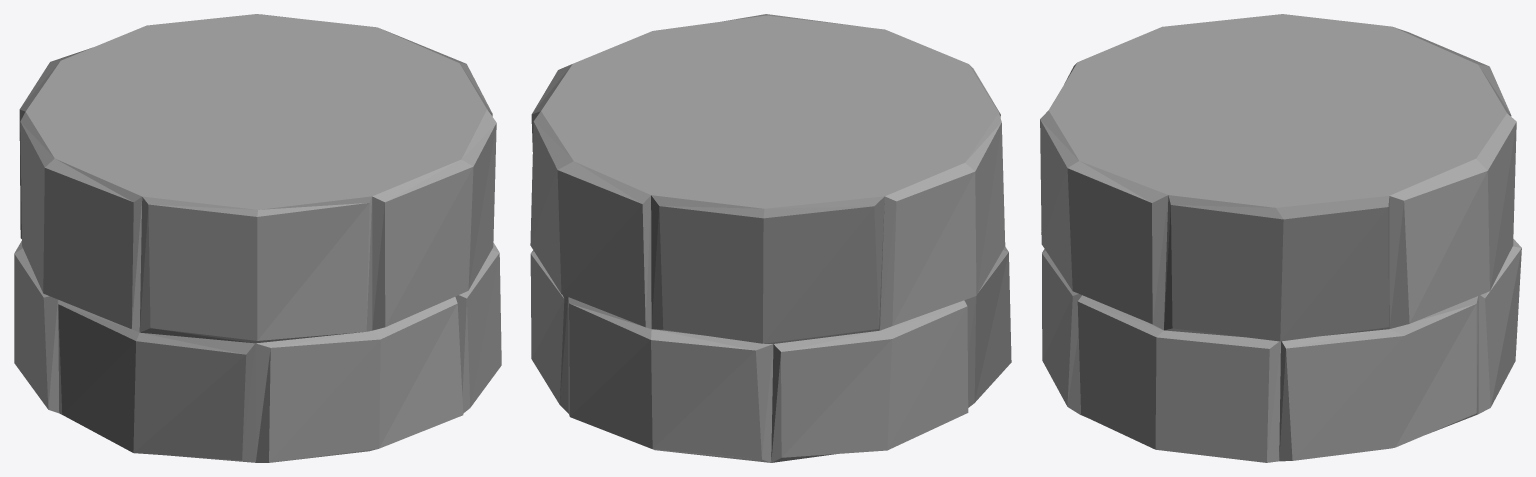
Rendered from _TOWER_3_BLOCK_01.fbx.
3 views of the same model, side by side, from view 1: azimuth 30°, elevation 25°; view 2: azimuth 150°, elevation 25°; view 3: azimuth 270°, elevation 25° (orthographic).
Parts seen in each view (by area): view 1: TOWER_3_BLOCK_01; view 2: TOWER_3_BLOCK_01; view 3: TOWER_3_BLOCK_01.
Part boxes in pixels (left/top/right/bottom): TOWER_3_BLOCK_01: left=14, top=14, right=501, bottom=462; TOWER_3_BLOCK_01: left=530, top=14, right=1011, bottom=462; TOWER_3_BLOCK_01: left=1040, top=14, right=1521, bottom=462.
Size of the model in its own units: 319 by 184 by 317.
